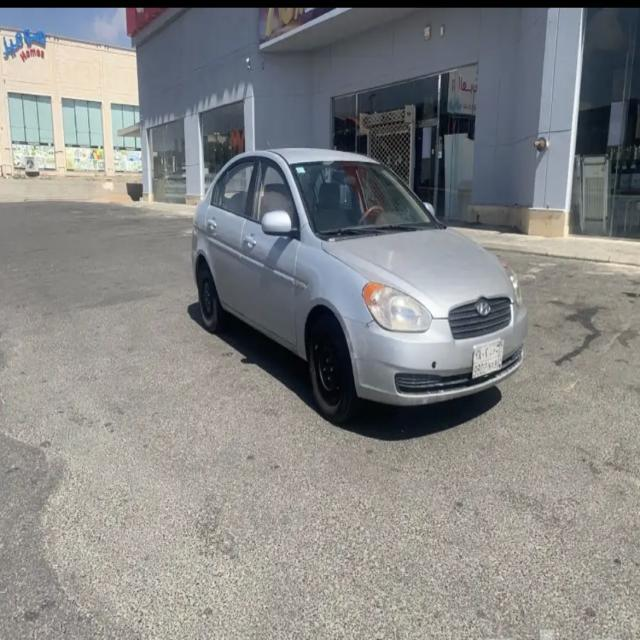license_plate: (472, 341, 504, 379)
